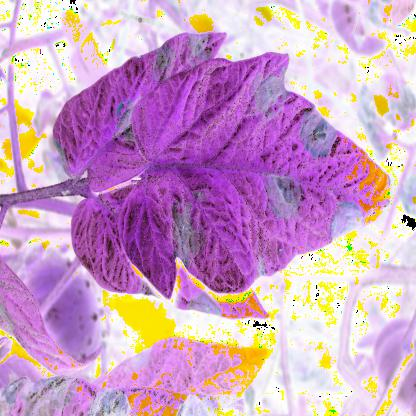potato leaf late blight: (122, 50, 393, 298), (51, 31, 294, 299)
